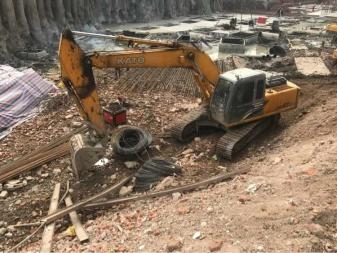excavator: (53, 20, 304, 187)
